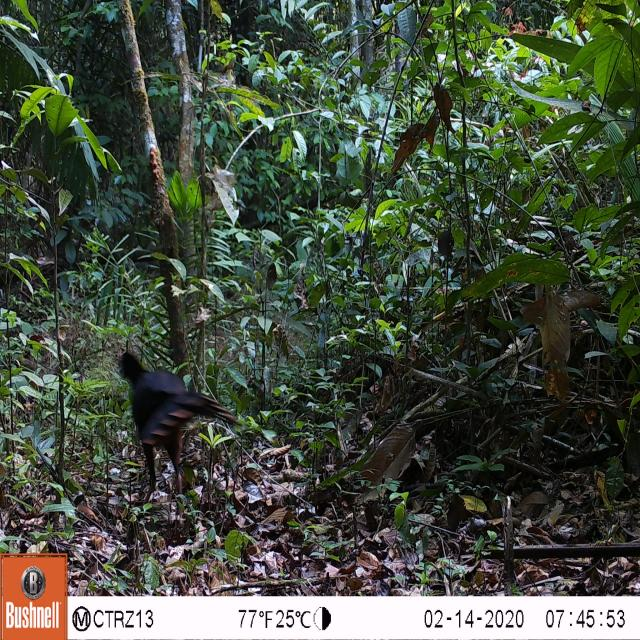Salvins Curassow: (98, 338, 246, 502)
